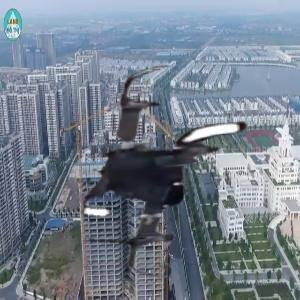drone: (59, 61, 286, 288)
